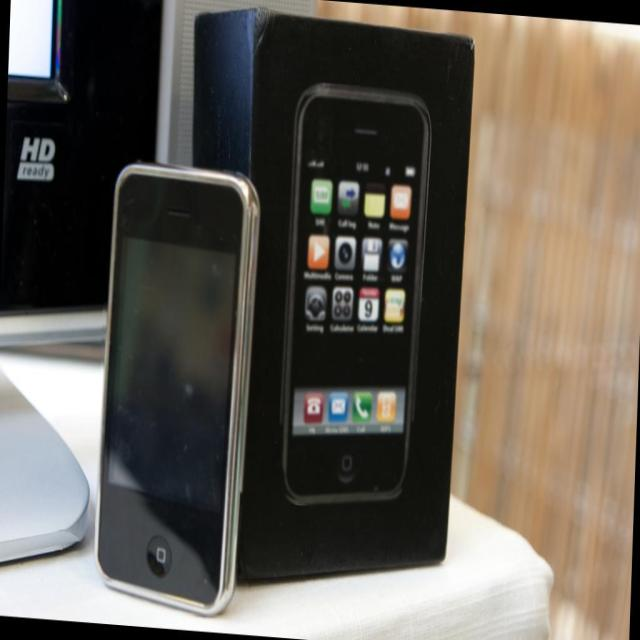handphone: (94, 166, 247, 619)
